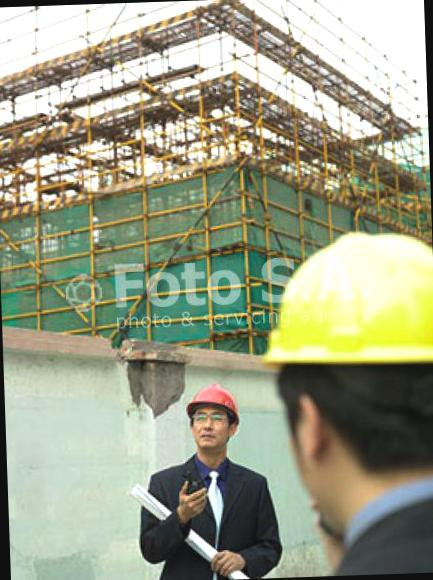person: (130, 380, 280, 580)
